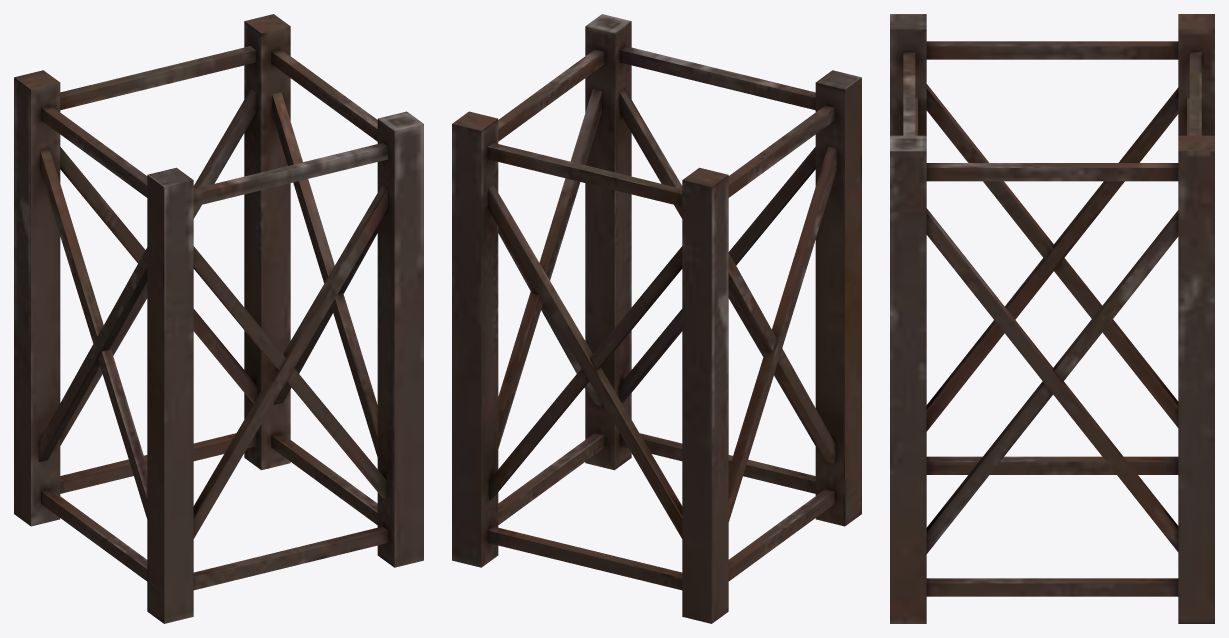
Rendered from scaffold-tall.gltf.
3 renders of one model, left to right at view 1: azimuth 30°, elevation 25°; view 2: azimuth 150°, elevation 25°; view 3: azimuth 270°, elevation 25°, orthographic. The views are drawn at different scales.
Parts seen in each view (by area): view 1: Cube.042; view 2: Cube.042; view 3: Cube.042.
Boxes of the visible parts, <box> form: Cube.042: <box>14,14,423,623</box>; Cube.042: <box>452,14,861,623</box>; Cube.042: <box>890,14,1214,623</box>.
Size of the model in its own units: 2.18 by 3.5 by 2.18.
1 material, 1 textured.
